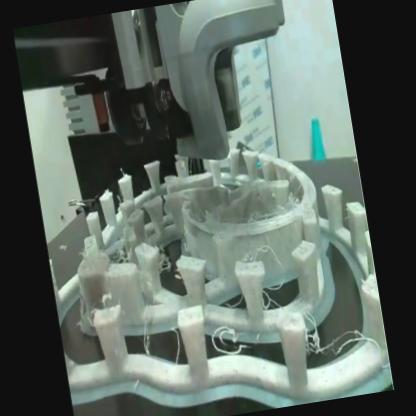fail: (306, 315, 372, 369), (210, 322, 255, 359), (111, 239, 136, 270), (156, 241, 177, 275)
